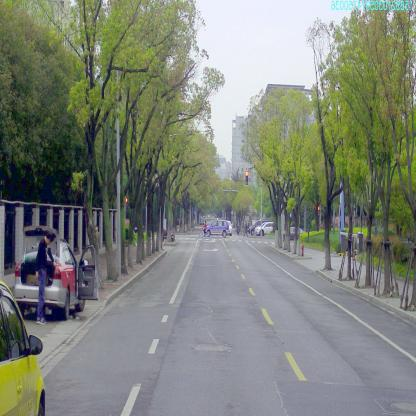traffic-light: (245, 170, 249, 184)
